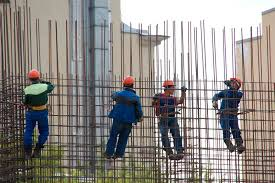Hard Hat: (122, 75, 135, 84), (230, 77, 243, 85), (162, 79, 176, 85), (28, 70, 39, 77)
